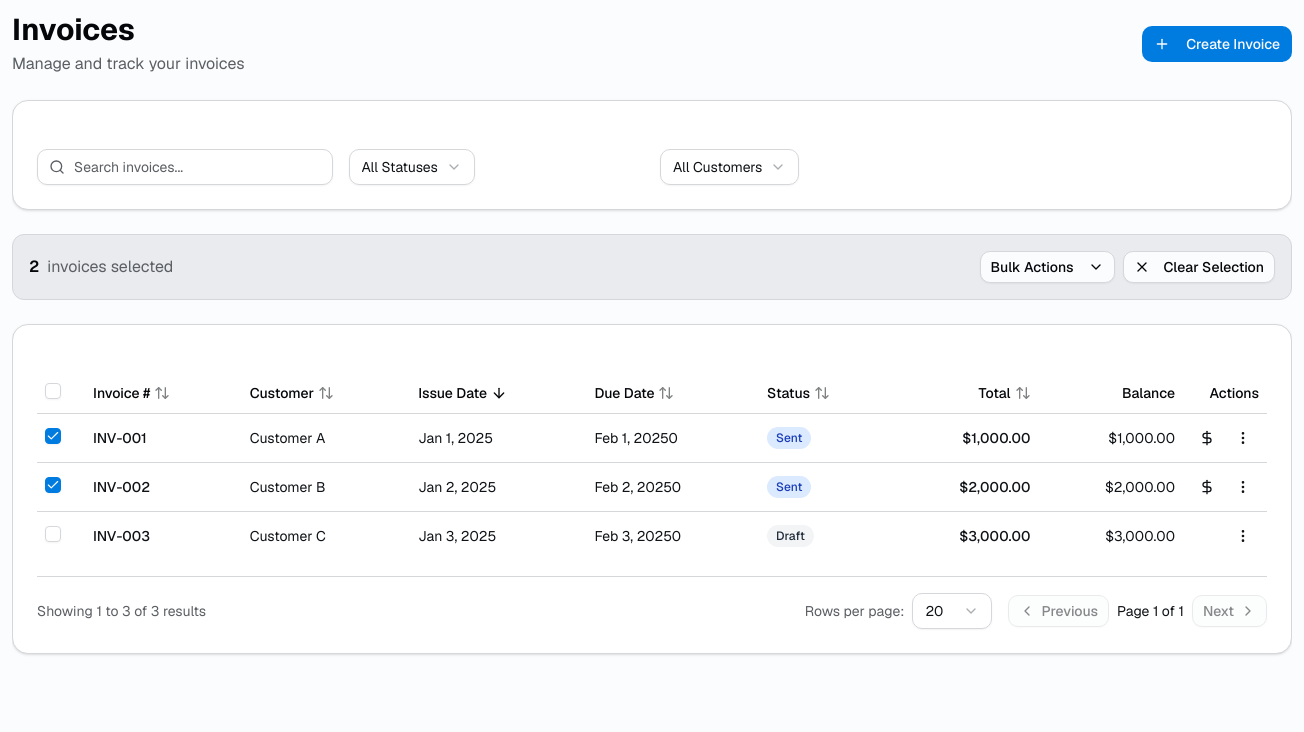
Bulk PDF Export › Bulk Actions Menu › should have Export PDFs action enabled
This screenshot has width=1304, height=732.
What coordinates should you click on to do the following:
click the button "Bulk Actions"
I would click on:
 (1047, 267)
Its box is [980,251,1114,283].
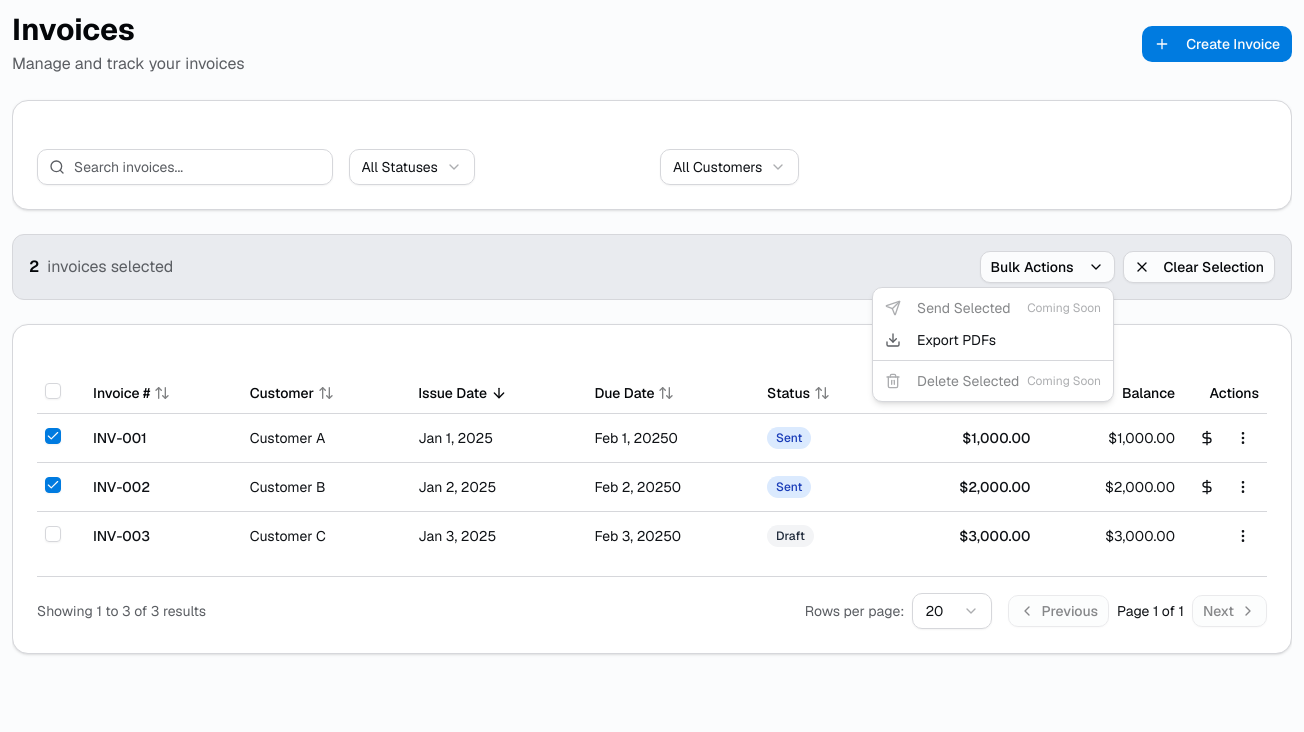
Check: the menu item "Export PDFs" is shown, box [885,331,996,349]
